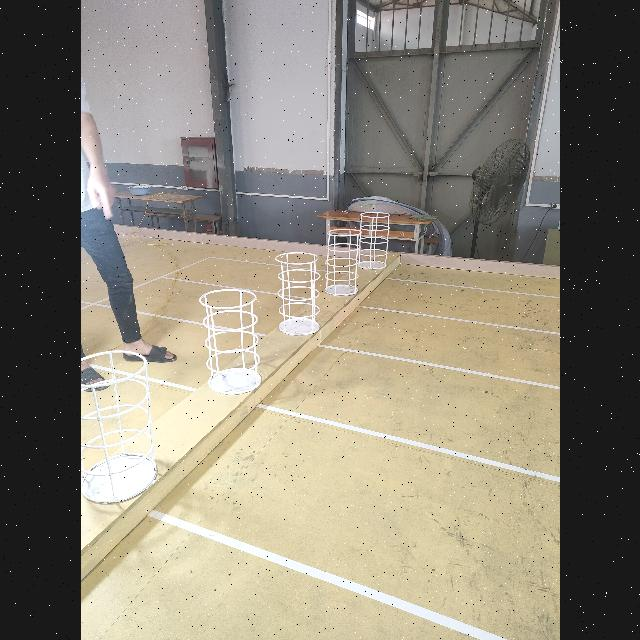S: (80, 350, 158, 504), (198, 288, 262, 394), (274, 252, 320, 334), (325, 228, 359, 296), (358, 211, 390, 269)
